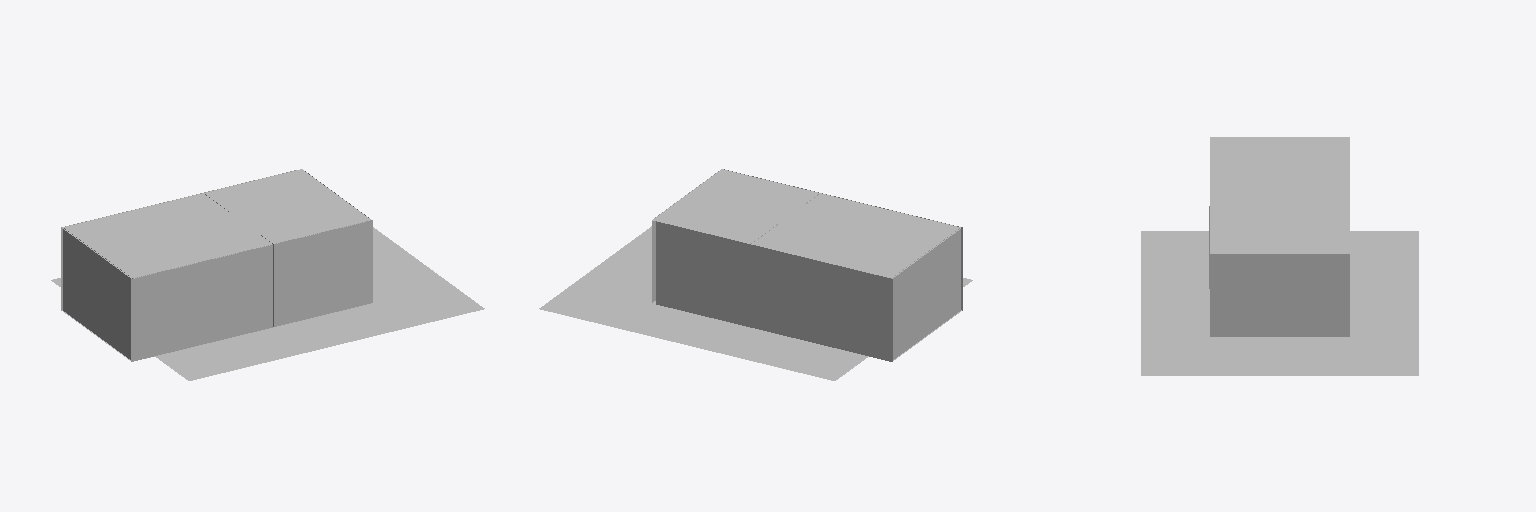
File: Environment v03.obj
3 renders of one model, left to right at view 1: azimuth 30°, elevation 25°; view 2: azimuth 150°, elevation 25°; view 3: azimuth 270°, elevation 25°, orthographic.
Bounding box in the file's own units: 681 × 170 × 510.